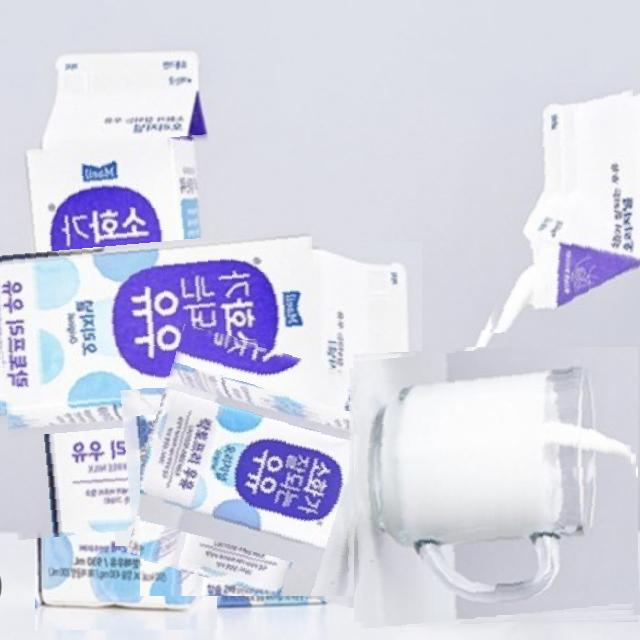biodegradable: (0, 132, 327, 533), (140, 337, 399, 596), (477, 83, 640, 330)
recyclable: (354, 347, 638, 630)
